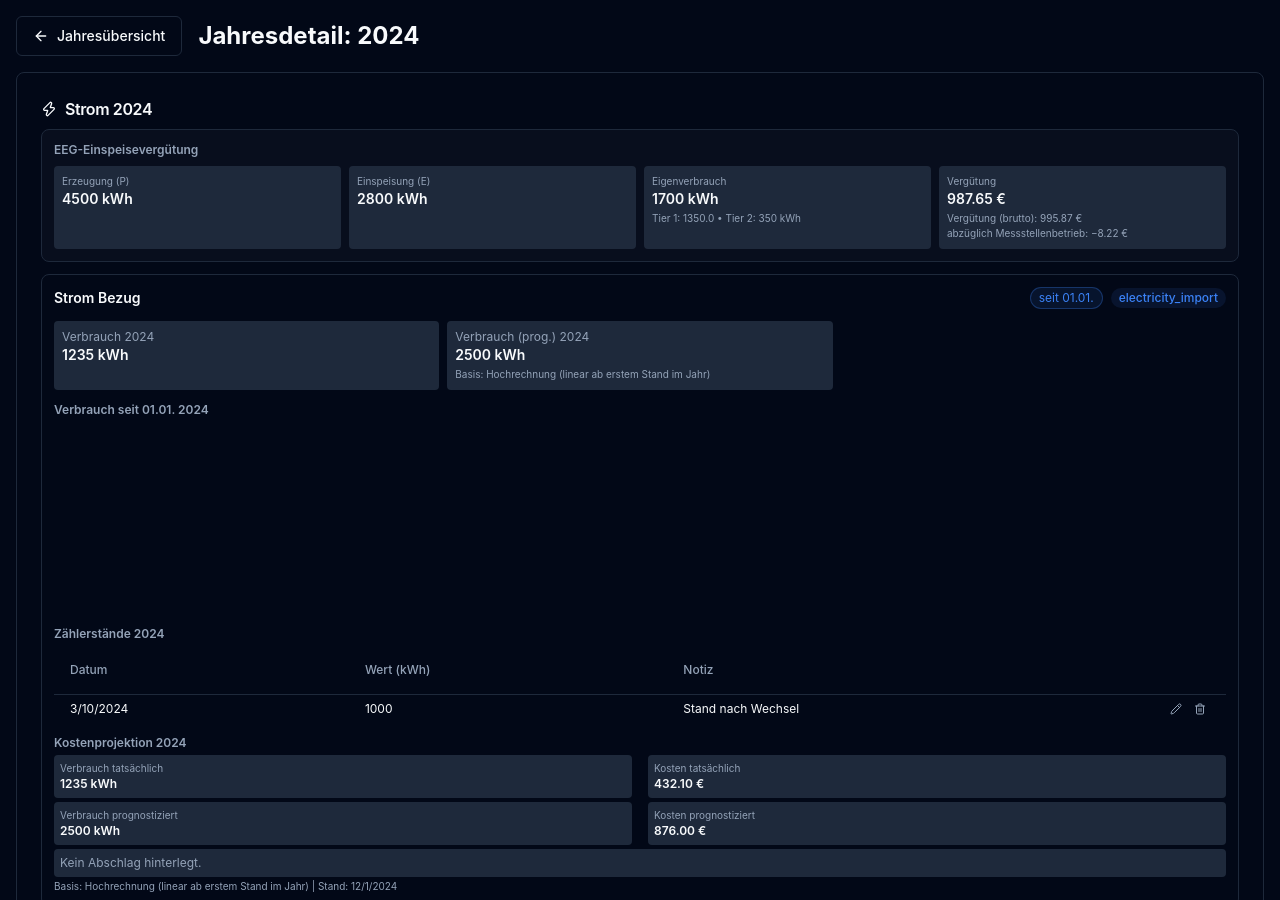
Test: YearDetail › reading edit dialog › pre-fills the selected reading and saves the correct payload
expect the heading "Jahresdetail: 2024" is shown: met, box [198,20,420,52]
Click the button titled "Bearbeiten".
click(1176, 708)  # box [1166,698,1186,718]
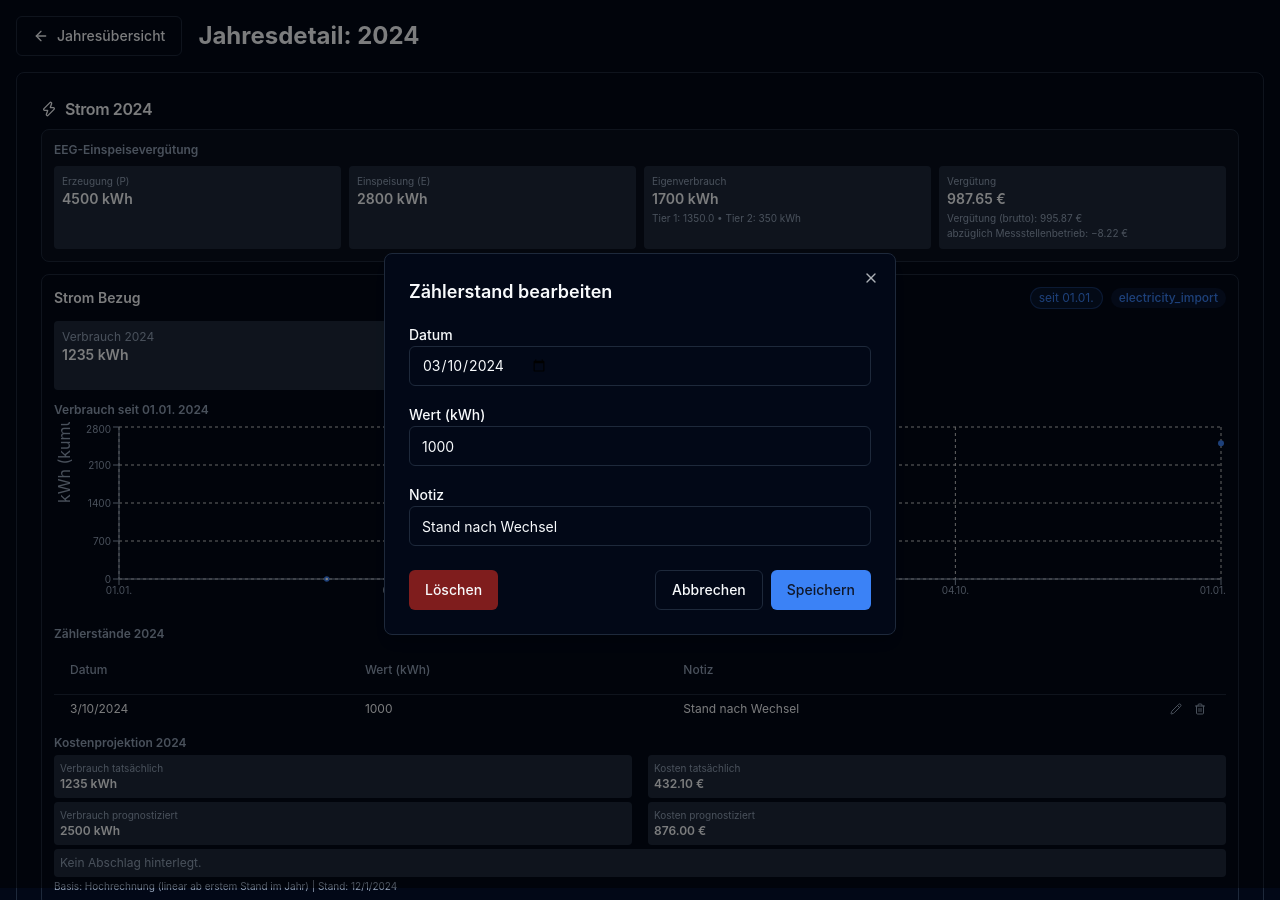
expect the heading "Zählerstand bearbeiten" is shown: met, box [409,281,612,302]
expect the date field labelled "Datum" holds "2024-03-10": met, box [409,346,871,386]
expect the number field labelled "Wert (kWh)" holds "1000": met
Replace the text in the number field labelled "Wert (kWh)" with "1250.5" at (640, 446), box [409,426,871,466]
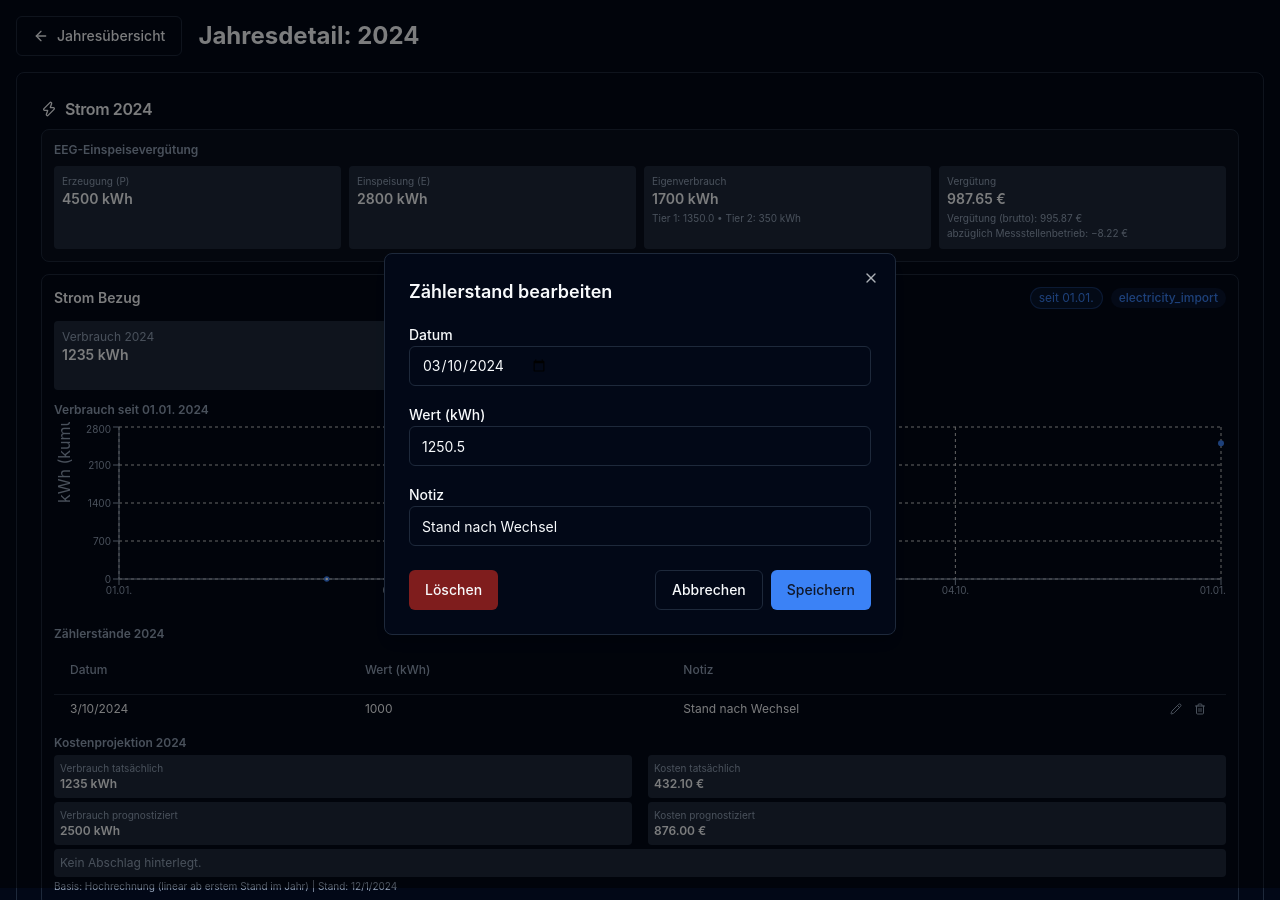
Replace the text in the field labelled "Notiz" with "Neue Notiz" at (640, 526), box [409,506,871,546]
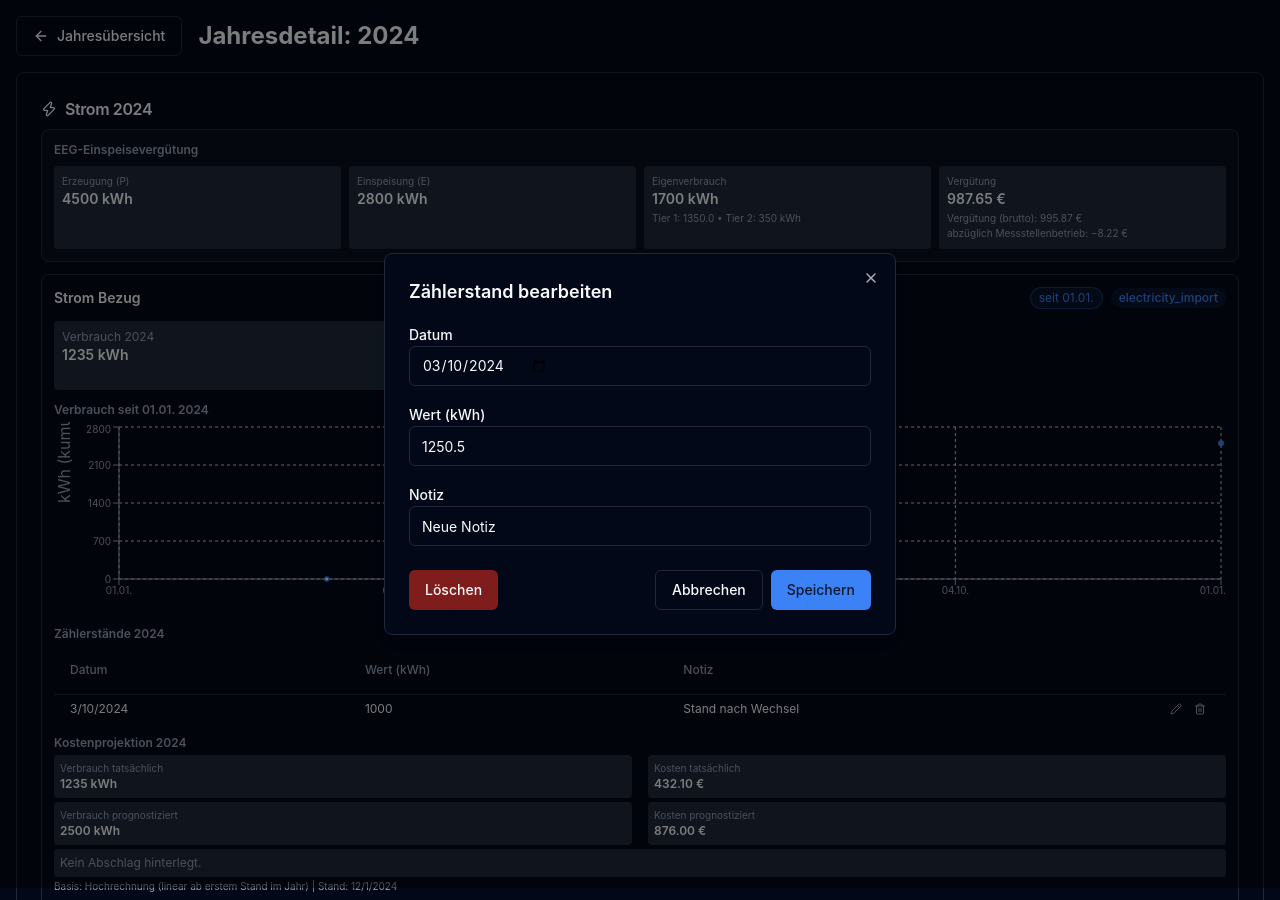
Click the button "Speichern".
click(821, 590)  # box [771,570,871,610]
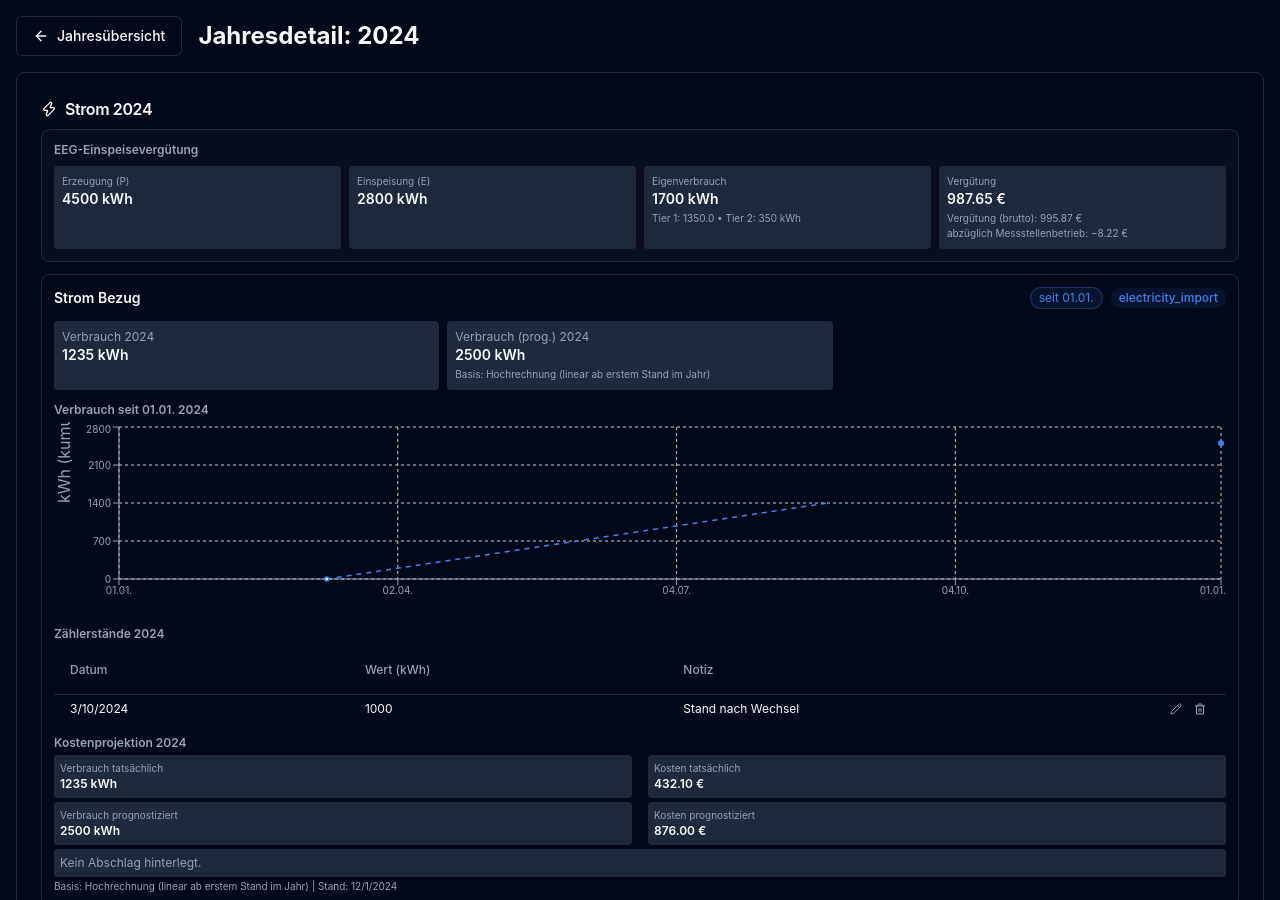
expect the heading "Zählerstand bearbeiten" is gone: met
